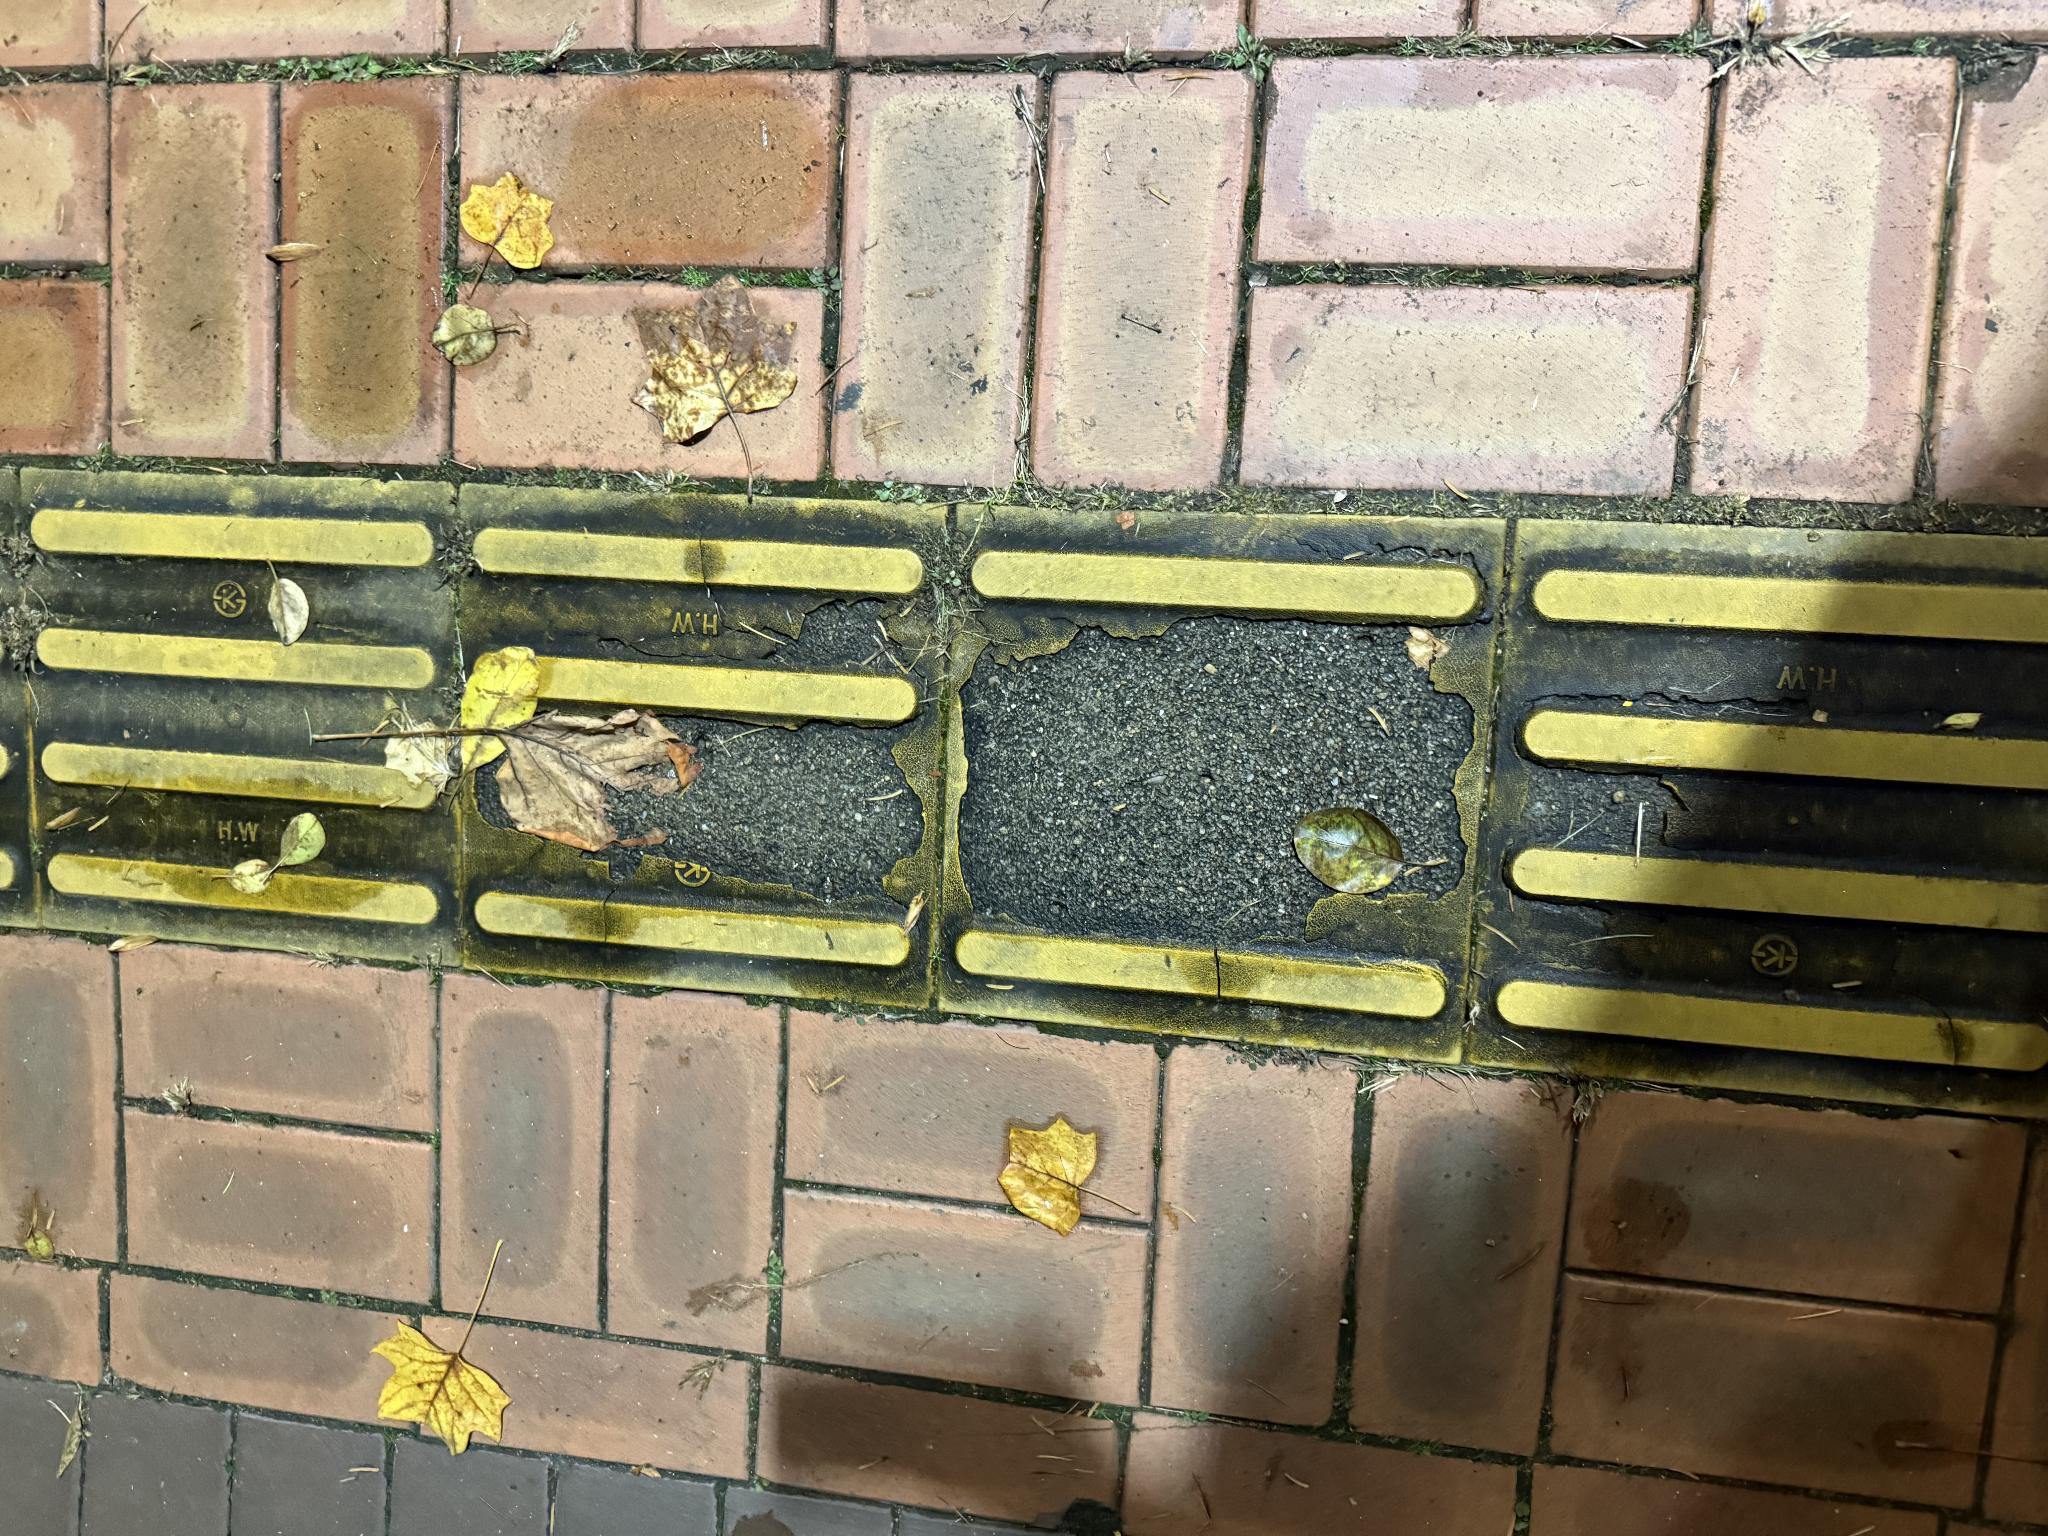Straight block broken: (476, 942, 1026, 1494), (537, 460, 1045, 939)
